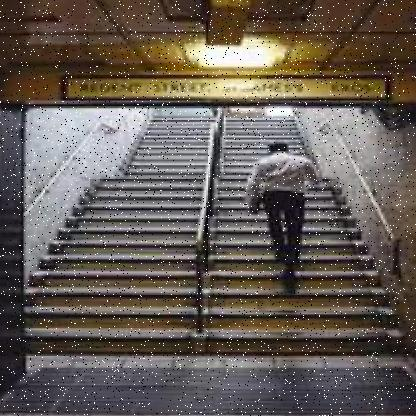stair_up: (61, 232, 374, 324)
